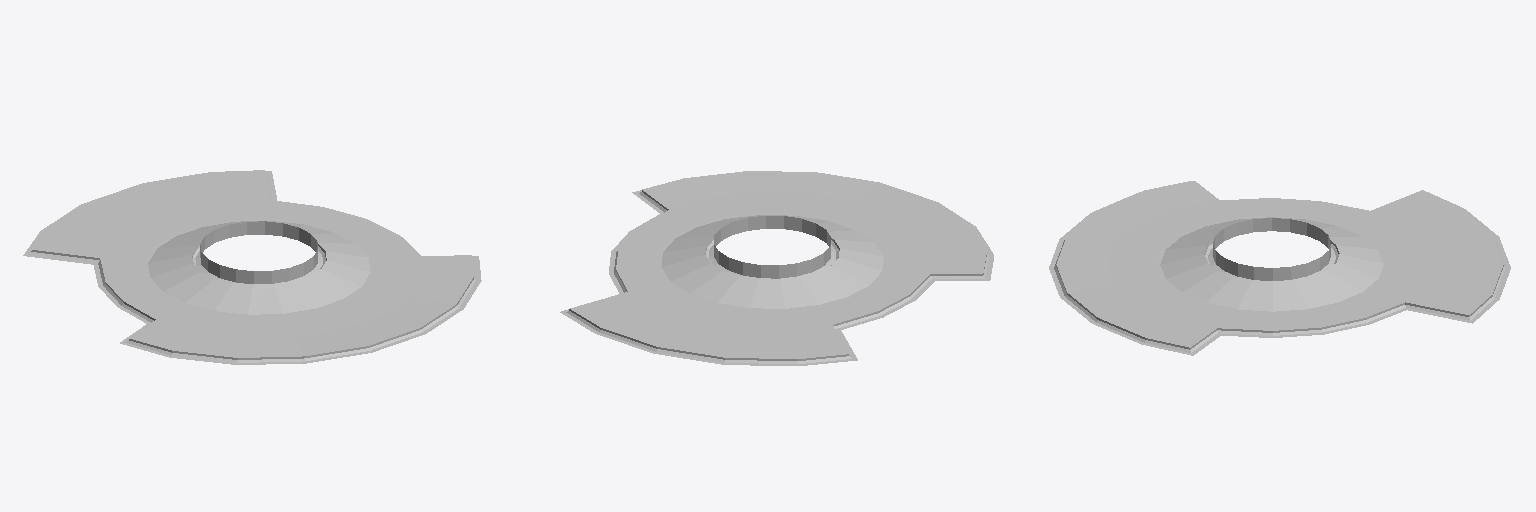
File: roof.obj
3 views of the same model, side by side, from view 1: azimuth 30°, elevation 25°; view 2: azimuth 150°, elevation 25°; view 3: azimuth 270°, elevation 25° (orthographic).
Visible parts, largest first — view 1: RoofPart; view 2: RoofPart; view 3: RoofPart.
Boxes of the visible parts, box(x1,y1,x2,y2) form: RoofPart: box(23, 170, 481, 364); RoofPart: box(560, 171, 993, 365); RoofPart: box(1049, 181, 1510, 355).
Bounding box in the file's own units: 185 × 12.59 × 207.